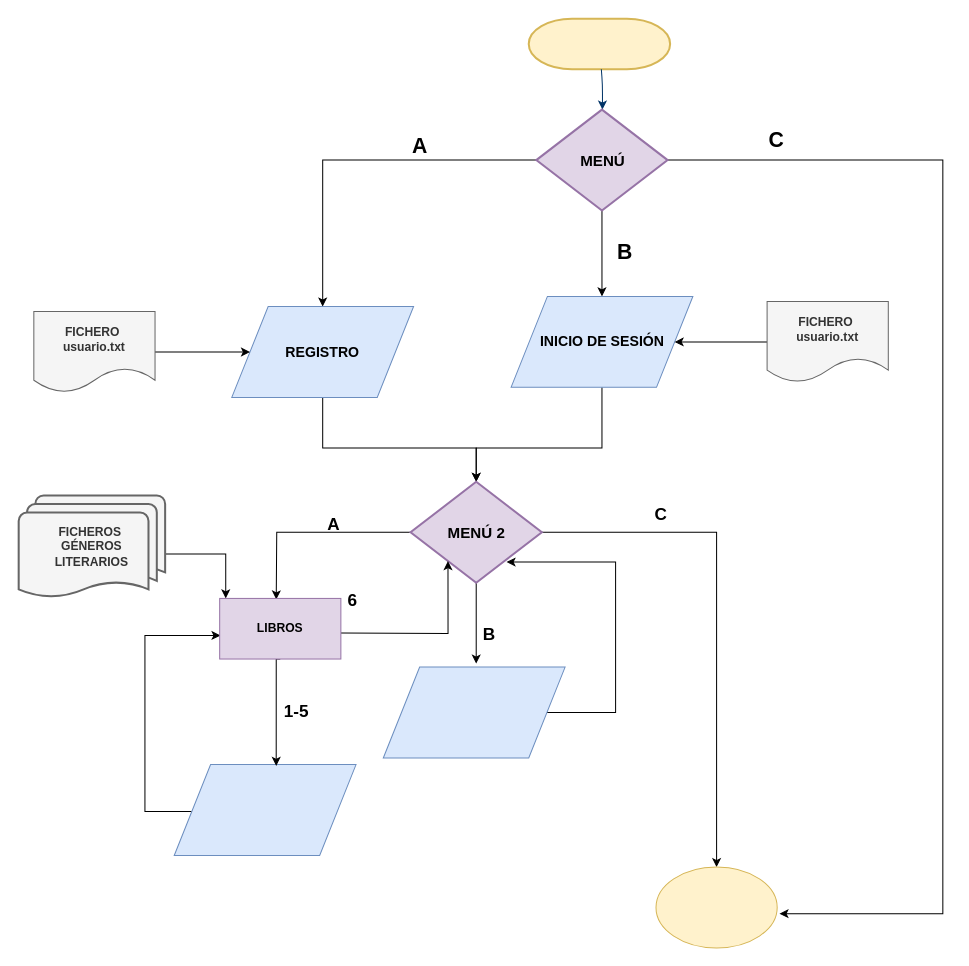
Image size: 969x966. Some labels were removed from this diagram. The shapes that lost their labels are listed below. From the top down, each one's box as (x1, y1, x2, y2) in pixels, then its label:
(527, 17, 671, 70): INICIO
(382, 666, 565, 758): INFORMACIÓN ADICIONAL
(173, 764, 356, 855): ELECCIÓN DE LIBRO
(655, 866, 777, 948): FIN
